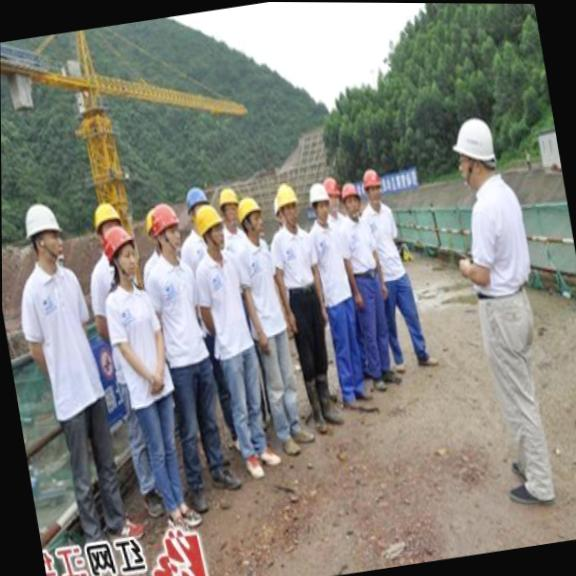no_safety_vest: (14, 258, 106, 421), (447, 176, 540, 300), (98, 275, 176, 400), (143, 251, 210, 370), (187, 249, 256, 358), (229, 231, 287, 337), (264, 221, 326, 306), (302, 220, 359, 304), (360, 195, 409, 279), (338, 213, 387, 290)
